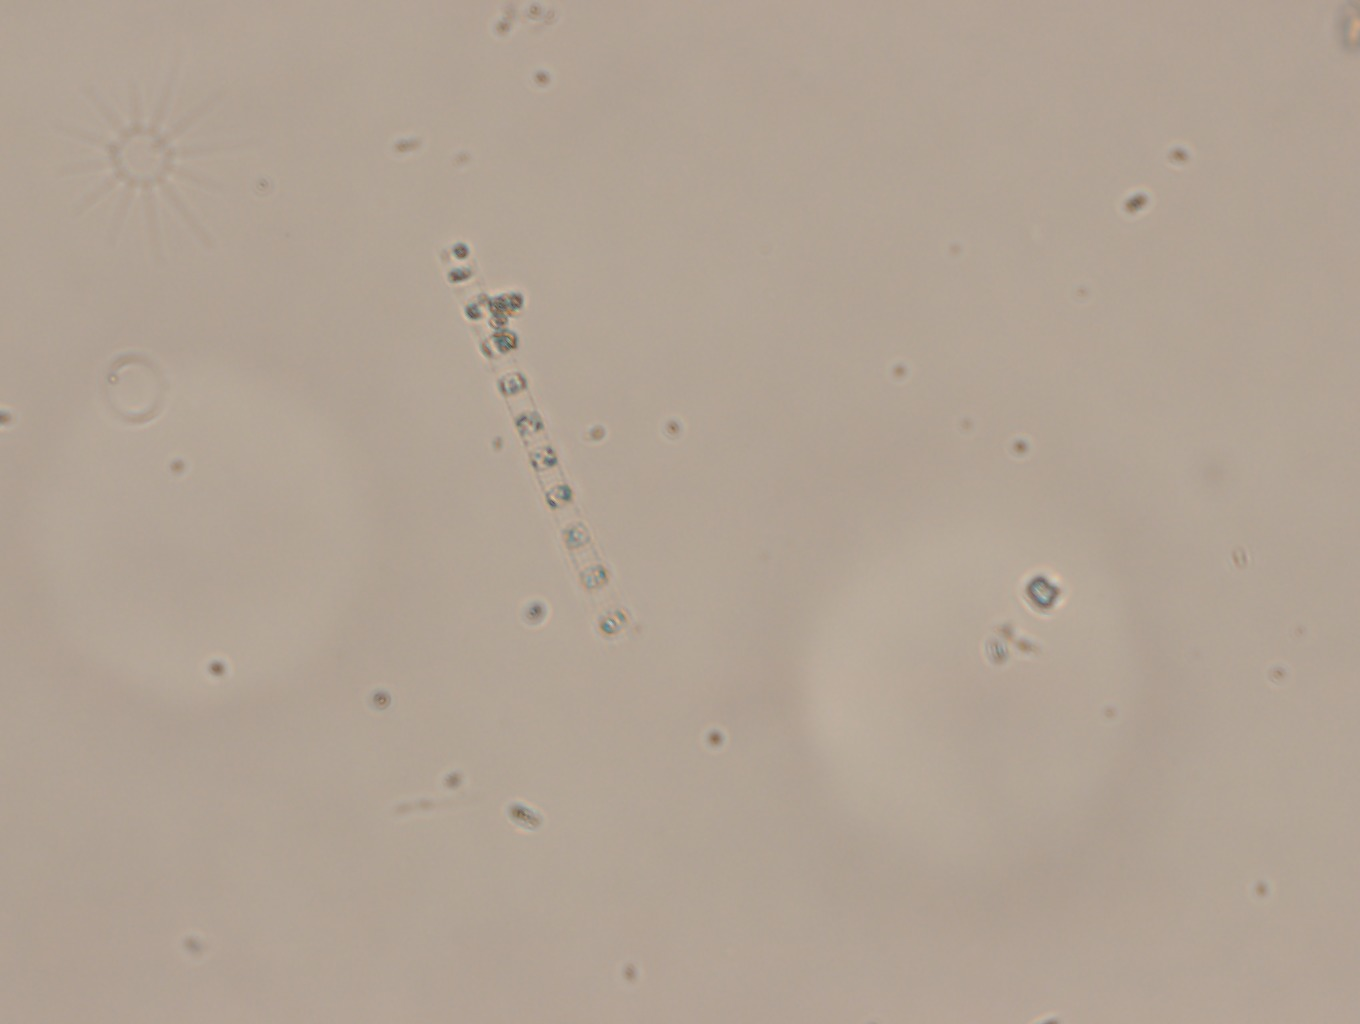bacteriastrum: (44, 52, 271, 267)
skeletonema: (428, 228, 660, 656)
